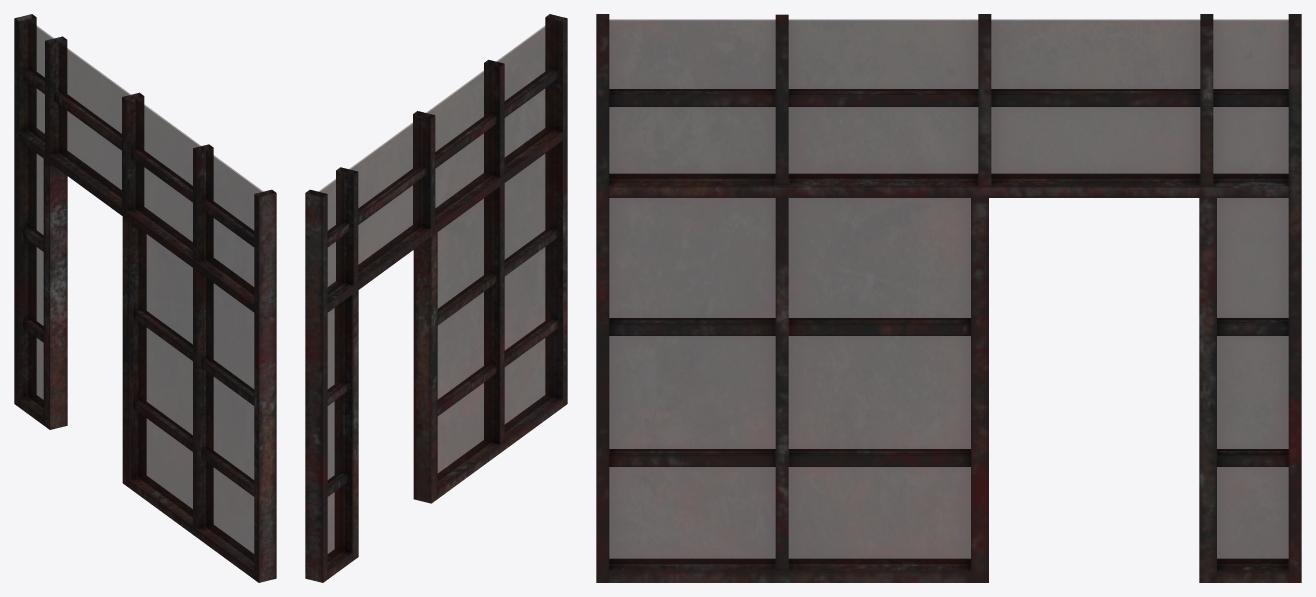
File: TR_MetalBlinds_02.FBX
3 renders of one model, left to right at view 1: azimuth 30°, elevation 25°; view 2: azimuth 150°, elevation 25°; view 3: azimuth 270°, elevation 25°, orthographic. The views are drawn at different scales.
Parts seen in each view (by area): view 1: TR_MetalBlinds_02; view 2: TR_MetalBlinds_02; view 3: TR_MetalBlinds_02.
Part boxes in pixels (x1,y1,x2,y2): TR_MetalBlinds_02: [14, 14, 276, 582]; TR_MetalBlinds_02: [305, 14, 567, 582]; TR_MetalBlinds_02: [596, 14, 1301, 582].
Bounding box in the file's own units: 15 × 312 × 358.
